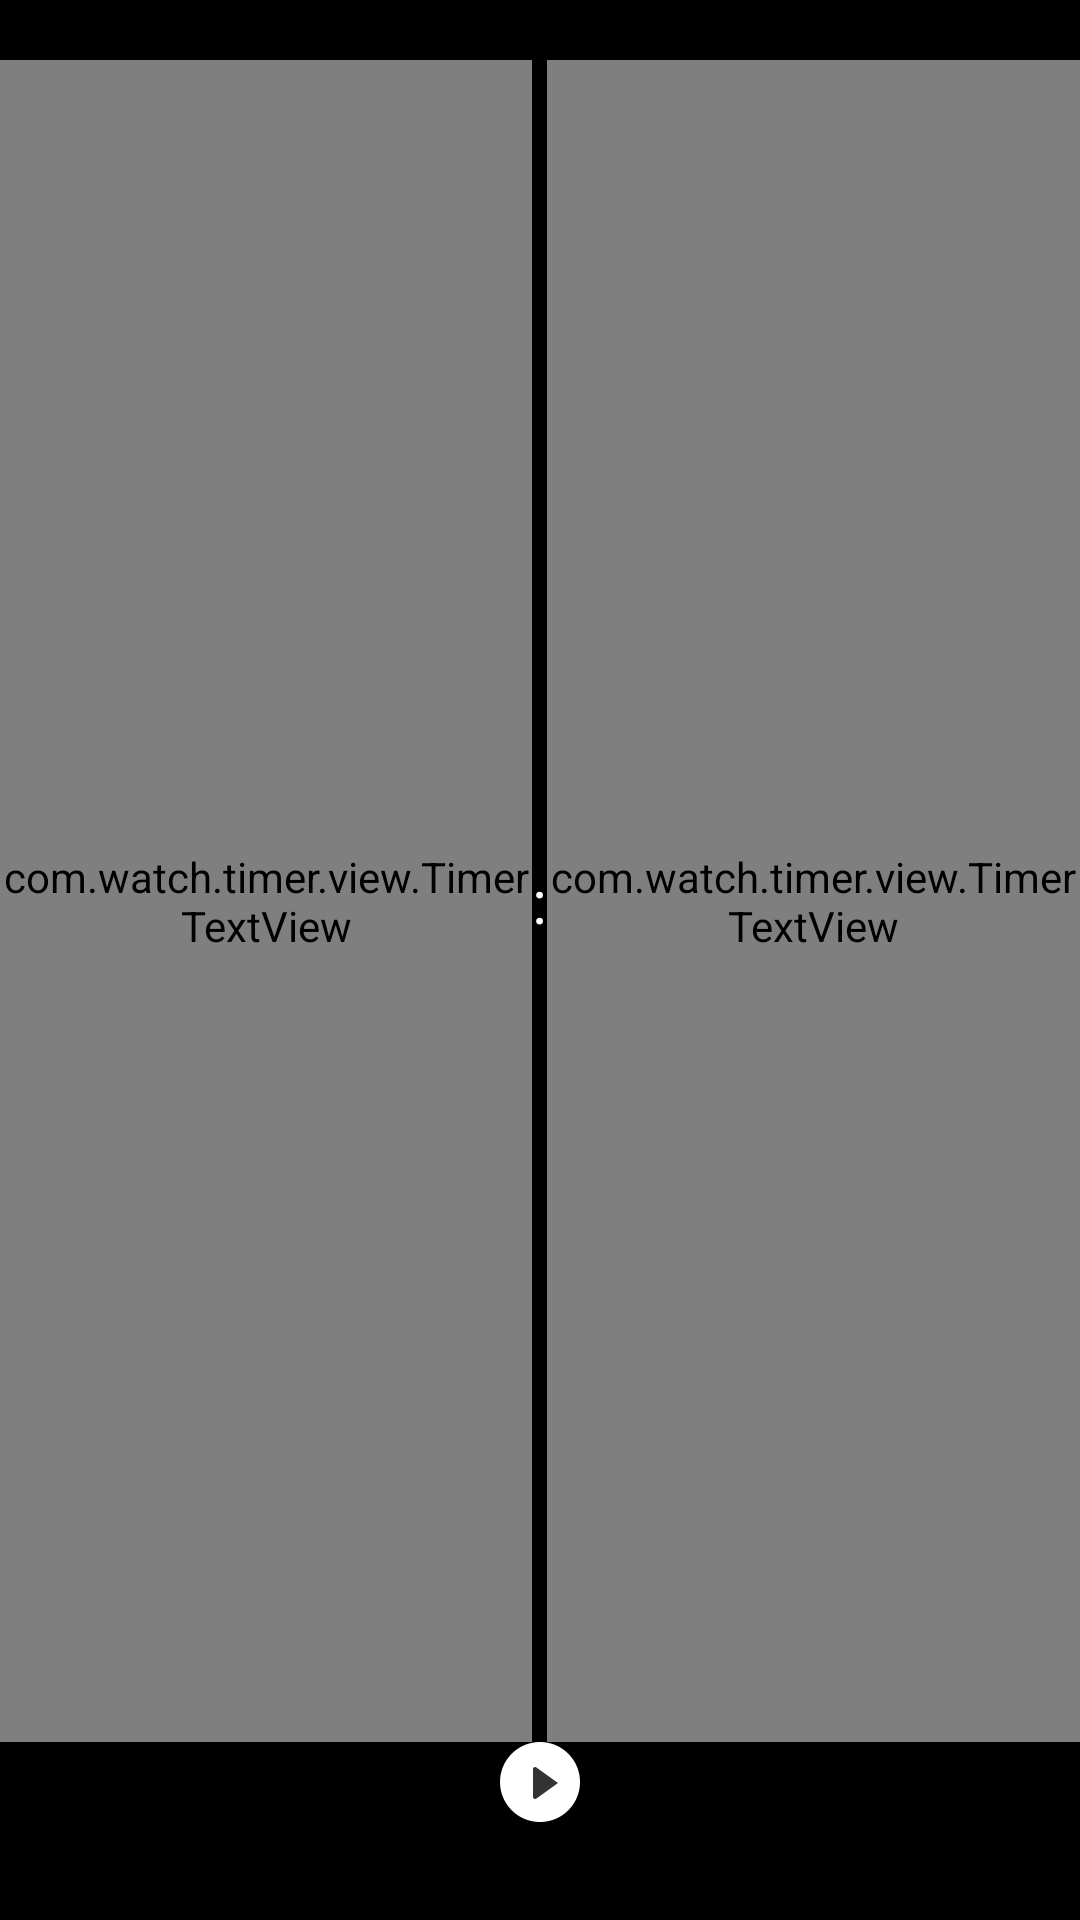

Named icons in this screenshot (1080 x 1920) and their centers, (x,y):
start: (540,1782)
